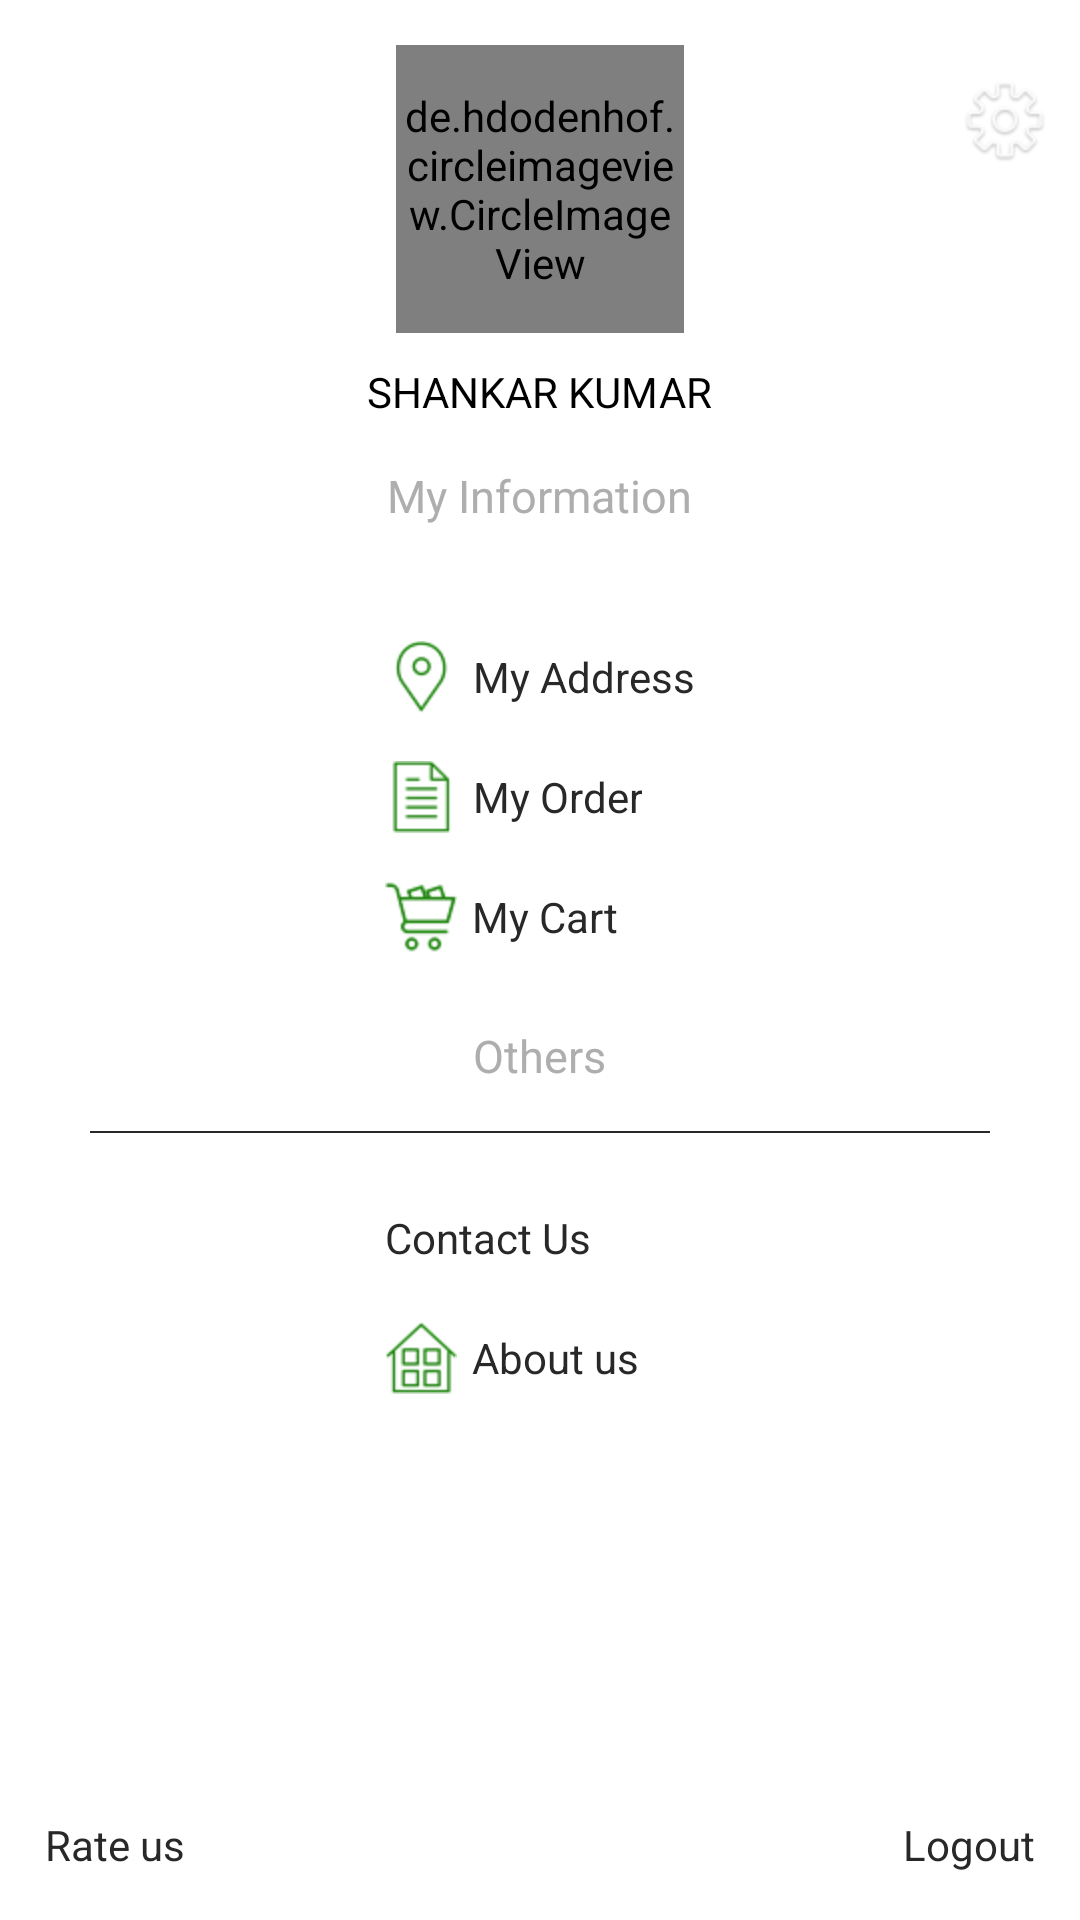

Icons on this 1080w x 1920h Android screen, each with its box as (x1, y1, x2, y2):
setting: (968, 85, 1042, 160)
